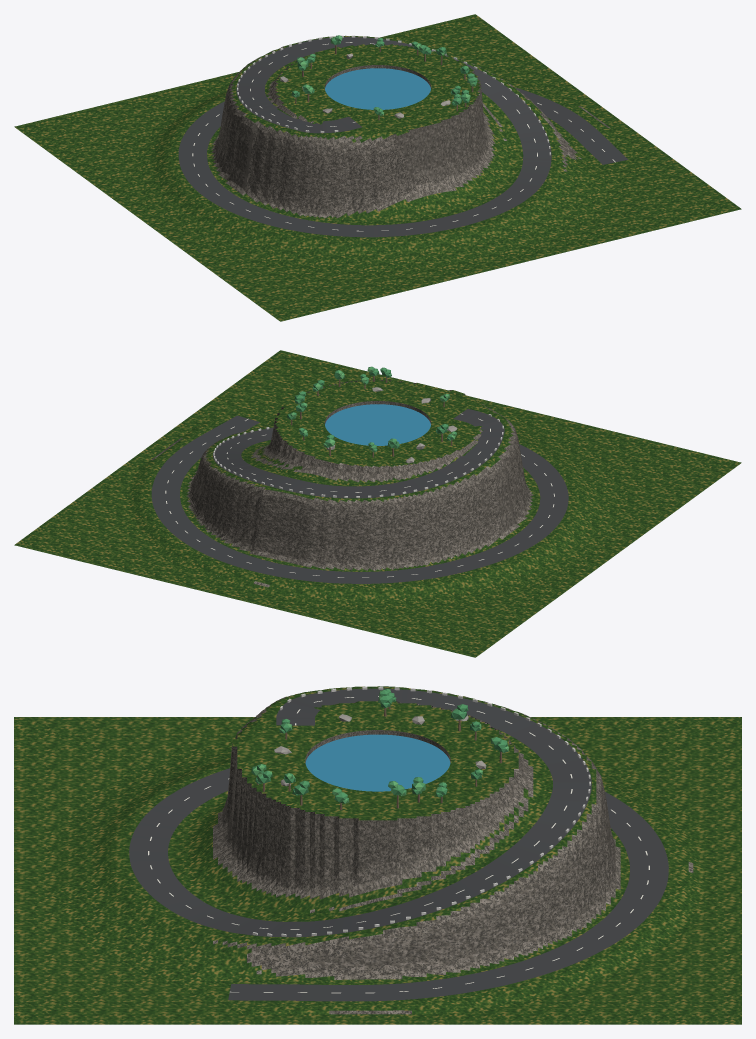
The model's file is terrain_mount_abu.glb.
3 renders of one model, top to bottom at view 1: azimuth 30°, elevation 25°; view 2: azimuth 150°, elevation 25°; view 3: azimuth 270°, elevation 25°, orthographic. The views are drawn at different scales.
Visible parts, largest first — view 1: MountAbu_Terrain, MountAbu_Road, MountAbu_Water, MountAbu_Vegetation, MountAbu_Barriers; view 2: MountAbu_Terrain, MountAbu_Road, MountAbu_Water, MountAbu_Vegetation, MountAbu_Barriers; view 3: MountAbu_Terrain, MountAbu_Road, MountAbu_Water, MountAbu_Vegetation, MountAbu_Barriers, MountAbu_RoadLine.
Part boxes in pixels (x1,y1,x2,y2): MountAbu_Terrain: (14,14,741,321); MountAbu_Road: (178,37,628,237); MountAbu_Water: (325,68,430,109); MountAbu_Vegetation: (280,35,477,120); MountAbu_Barriers: (237,35,550,155); MountAbu_Terrain: (14,350,741,657); MountAbu_Road: (151,409,568,583); MountAbu_Water: (325,404,430,445); MountAbu_Vegetation: (287,366,457,463); MountAbu_Barriers: (213,414,503,497); MountAbu_Terrain: (14,686,741,1024); MountAbu_Road: (129,688,668,1001); MountAbu_Water: (305,734,450,791); MountAbu_Vegetation: (251,689,508,810); MountAbu_Barriers: (252,686,590,936); MountAbu_RoadLine: (148,696,649,993).
Size of the model in its own units: 150 by 31.04 by 150.
11 materials, 2 textured.
